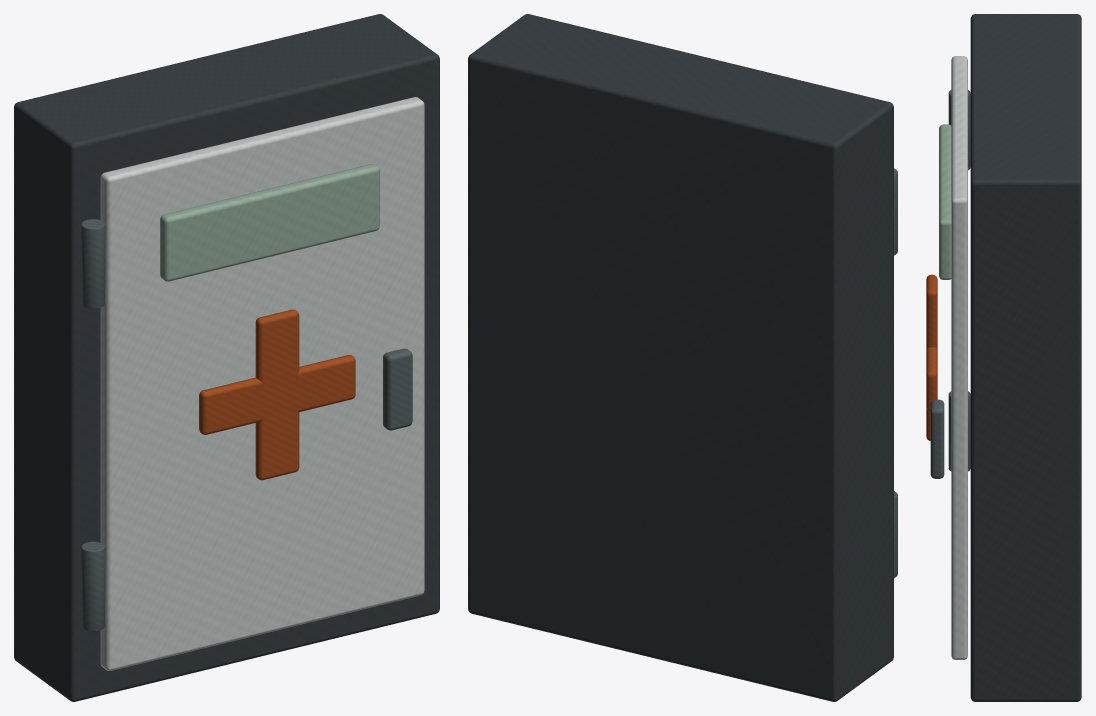
The model's file is WallFirstAidDispenser.fbx.
3 renders of one model, left to right at view 1: azimuth 30°, elevation 25°; view 2: azimuth 150°, elevation 25°; view 3: azimuth 270°, elevation 25°, orthographic. The views are drawn at different scales.
Visible parts, largest first — view 1: WallFirstAidDispenser_Mesh; view 2: WallFirstAidDispenser_Mesh; view 3: WallFirstAidDispenser_Mesh.
Boxes of the visible parts, x1=… form: WallFirstAidDispenser_Mesh: x1=14, y1=14, x2=439, y2=701; WallFirstAidDispenser_Mesh: x1=468, y1=14, x2=897, y2=701; WallFirstAidDispenser_Mesh: x1=926, y1=14, x2=1081, y2=701.
Size of the model in its own units: 72 by 104 by 28.
